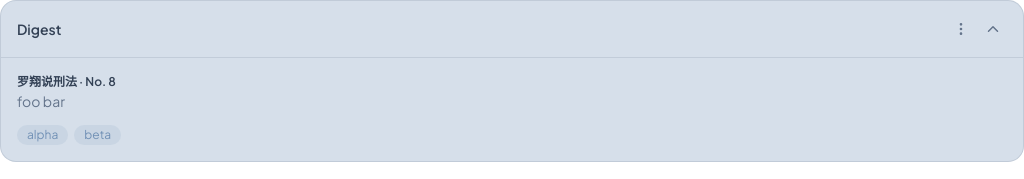
it: DigestAccordion › shows facet strip and an Edit metadata menu item
Expected: the text "罗翔说刑法 · No. 8" is shown, [17, 74, 116, 89]
Click the button named "Digest options": [961, 29] box [947, 15, 975, 43]
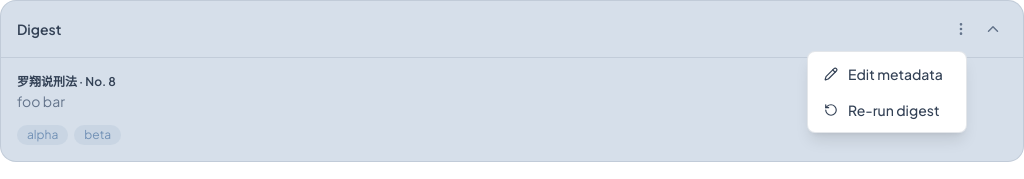
Now the text "Edit metadata" is shown, box [848, 64, 943, 84]
